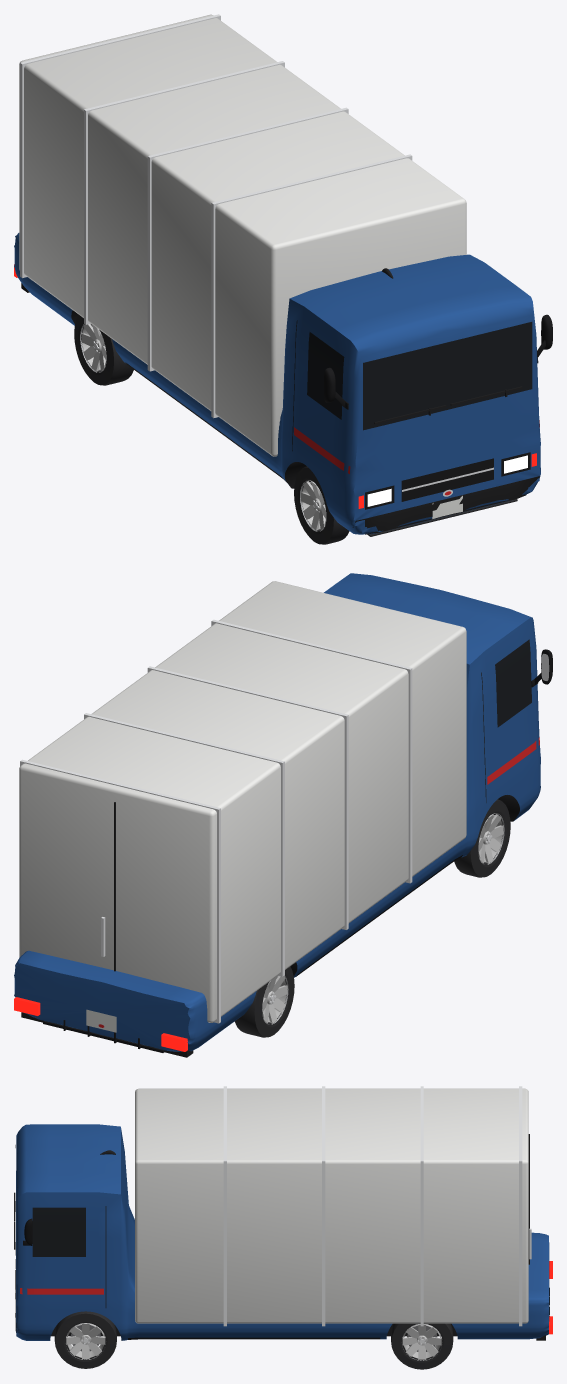
Rendered from tr_truck.glb.
3 views of the same model, one above another, from view 1: azimuth 30°, elevation 25°; view 2: azimuth 150°, elevation 25°; view 3: azimuth 270°, elevation 25° (orthographic). The views are drawn at different scales.
Parts seen in each view (by area): view 1: Body, Wheel_RR, Wheel_FR; view 2: Body, Wheel_RR, Wheel_FR; view 3: Body, Wheel_FL, Wheel_RL.
Part boxes in pixels (x1,y1,x2,y2): Body: (14,14,552,536); Wheel_RR: (74,314,133,385); Wheel_FR: (294,466,349,544); Body: (14,573,552,1057); Wheel_RR: (234,966,294,1037); Wheel_FR: (454,799,510,877); Body: (14,1086,552,1340); Wheel_FL: (54,1311,116,1368); Wheel_RL: (391,1323,453,1369).
Bounding box in the file's own units: 2.46 × 2.86 × 6.57.
